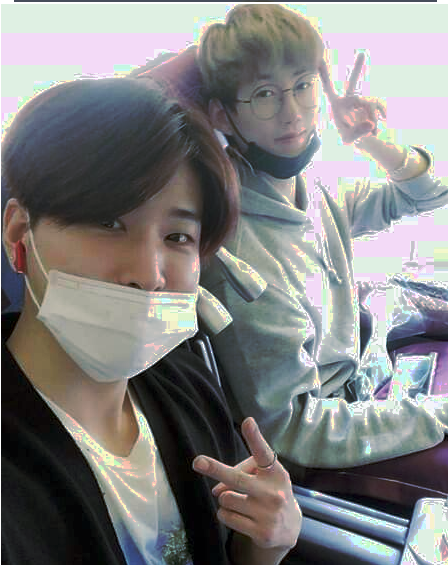mask_weared_incorrect: (5, 79, 221, 386), (201, 5, 329, 180)
